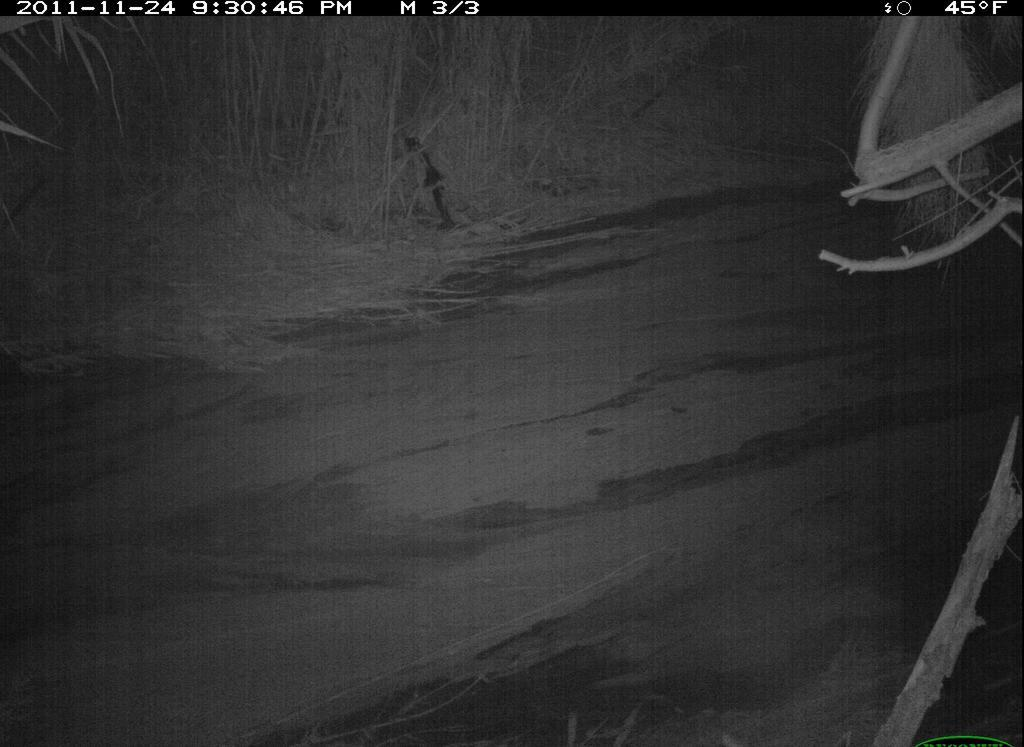raccoon: (786, 27, 1003, 282)
